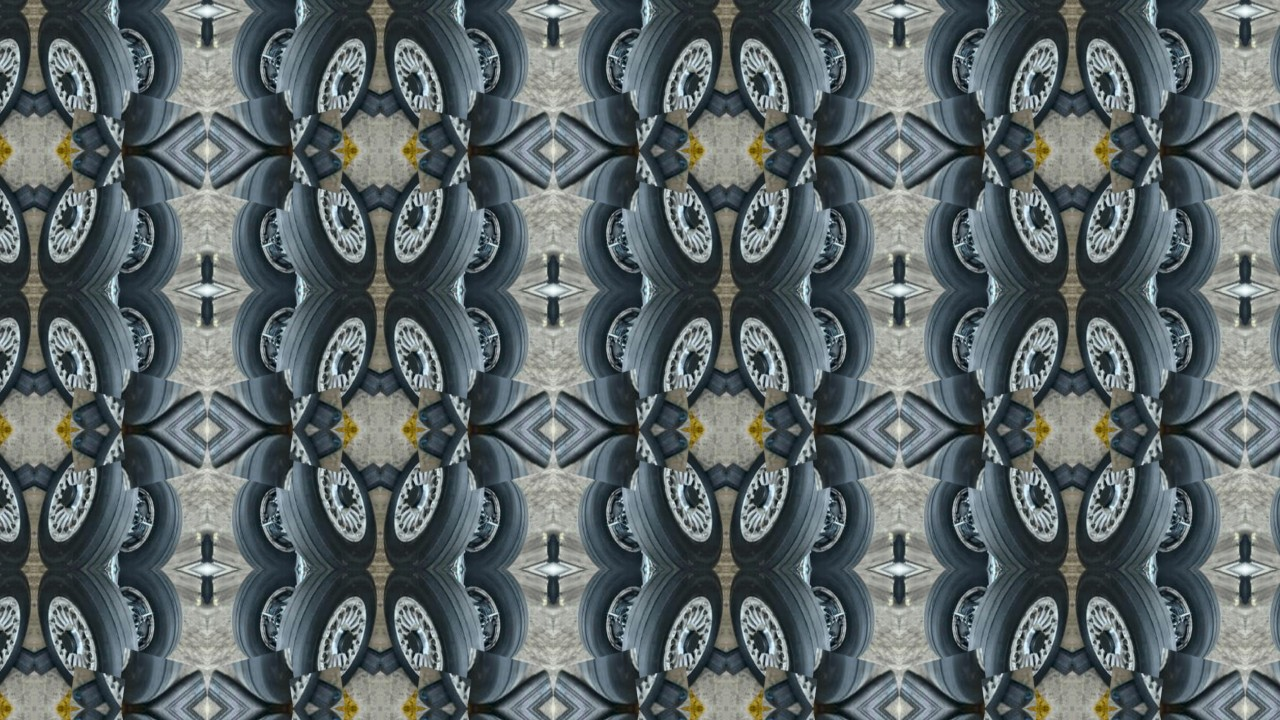chock: (108, 83, 206, 150), (206, 83, 304, 150), (455, 83, 553, 150), (553, 83, 651, 150), (802, 83, 900, 150), (900, 83, 998, 150), (1149, 83, 1247, 150), (108, 150, 206, 217), (206, 150, 304, 217), (455, 150, 553, 217), (553, 150, 651, 217), (802, 150, 900, 217), (900, 150, 998, 217), (1149, 150, 1247, 217), (108, 363, 206, 430), (206, 363, 304, 430), (455, 363, 553, 430), (553, 363, 651, 430), (802, 363, 900, 430), (900, 363, 998, 430), (1149, 363, 1247, 430), (108, 430, 206, 497), (206, 430, 304, 497), (455, 430, 553, 497), (553, 430, 651, 497), (802, 430, 900, 497), (900, 430, 998, 497), (1149, 430, 1247, 497), (108, 643, 206, 710), (206, 643, 304, 710), (455, 643, 553, 710), (553, 643, 651, 710), (802, 643, 900, 710), (900, 643, 998, 710), (1149, 643, 1247, 710), (81, 102, 153, 150), (259, 102, 331, 150), (428, 102, 500, 150), (606, 102, 678, 150), (775, 102, 847, 150), (953, 102, 1025, 150), (1122, 102, 1194, 150), (81, 150, 153, 198), (259, 150, 331, 198), (428, 150, 500, 198), (606, 150, 678, 198), (775, 150, 847, 198), (953, 150, 1025, 198), (1122, 150, 1194, 198), (81, 382, 153, 430), (259, 382, 331, 430), (428, 382, 500, 430), (606, 382, 678, 430), (775, 382, 847, 430), (953, 382, 1025, 430), (1122, 382, 1194, 430), (81, 430, 153, 478), (259, 430, 331, 478), (428, 430, 500, 478), (606, 430, 678, 478), (775, 430, 847, 478), (953, 430, 1025, 478), (1122, 430, 1194, 478), (81, 662, 153, 710), (259, 662, 331, 710), (428, 662, 500, 710), (606, 662, 678, 710), (775, 662, 847, 710), (953, 662, 1025, 710), (1122, 662, 1194, 710), (68, 103, 124, 150), (288, 103, 344, 150), (415, 103, 471, 150), (635, 103, 691, 150), (762, 103, 818, 150), (982, 103, 1038, 150), (1109, 103, 1165, 150), (68, 150, 124, 197), (288, 150, 344, 197), (415, 150, 471, 197), (635, 150, 691, 197), (762, 150, 818, 197), (982, 150, 1038, 197), (1109, 150, 1165, 197), (68, 383, 124, 430), (288, 383, 344, 430), (415, 383, 471, 430), (635, 383, 691, 430), (762, 383, 818, 430), (982, 383, 1038, 430), (1109, 383, 1165, 430), (68, 430, 124, 477), (288, 430, 344, 477), (415, 430, 471, 477), (635, 430, 691, 477), (762, 430, 818, 477), (982, 430, 1038, 477), (1109, 430, 1165, 477), (68, 663, 124, 710), (288, 663, 344, 710), (415, 663, 471, 710), (635, 663, 691, 710), (762, 663, 818, 710), (982, 663, 1038, 710), (1109, 663, 1165, 710), (1247, 83, 1280, 150), (1247, 150, 1280, 217), (1247, 363, 1280, 430), (1247, 430, 1280, 497), (1247, 643, 1280, 710), (379, 74, 418, 126), (726, 74, 765, 126), (1035, 74, 1074, 126), (379, 174, 418, 226), (726, 174, 765, 226), (1035, 174, 1074, 226), (379, 354, 418, 406), (726, 354, 765, 406), (1035, 354, 1074, 406), (379, 454, 418, 506), (726, 454, 765, 506), (1035, 454, 1074, 506), (379, 634, 418, 686), (726, 634, 765, 686), (1035, 634, 1074, 686), (33, 74, 71, 126), (341, 74, 379, 126), (688, 74, 726, 126), (1074, 74, 1112, 126), (33, 174, 71, 226), (341, 174, 379, 226), (688, 174, 726, 226), (1074, 174, 1112, 226), (33, 354, 71, 406), (341, 354, 379, 406), (688, 354, 726, 406), (1074, 354, 1112, 406), (33, 454, 71, 506), (341, 454, 379, 506), (688, 454, 726, 506), (1074, 454, 1112, 506), (33, 634, 71, 686), (341, 634, 379, 686), (688, 634, 726, 686), (1074, 634, 1112, 686), (0, 74, 32, 126), (0, 174, 32, 226), (0, 354, 32, 406), (0, 454, 32, 506), (0, 634, 32, 686), (108, 710, 206, 720), (206, 710, 304, 720), (455, 710, 553, 720), (553, 710, 651, 720), (802, 710, 900, 720), (900, 710, 998, 720), (1149, 710, 1247, 720), (81, 710, 153, 720), (259, 710, 331, 720), (428, 710, 500, 720), (606, 710, 678, 720), (775, 710, 847, 720), (953, 710, 1025, 720), (1122, 710, 1194, 720), (68, 710, 124, 720), (288, 710, 344, 720), (415, 710, 471, 720), (635, 710, 691, 720), (762, 710, 818, 720), (982, 710, 1038, 720), (1109, 710, 1165, 720)
wheel: (32, 10, 143, 150), (269, 10, 380, 150), (616, 10, 727, 150), (726, 10, 837, 150), (963, 10, 1074, 150), (1073, 10, 1184, 150), (32, 150, 143, 290), (269, 150, 380, 290), (616, 150, 727, 290), (726, 150, 837, 290), (963, 150, 1074, 290), (1073, 150, 1184, 290), (32, 290, 143, 430), (269, 290, 380, 430), (616, 290, 727, 430), (726, 290, 837, 430), (963, 290, 1074, 430), (1073, 290, 1184, 430), (32, 430, 143, 570), (269, 430, 380, 570), (616, 430, 727, 570), (726, 430, 837, 570), (963, 430, 1074, 570), (1073, 430, 1184, 570), (32, 570, 143, 710), (269, 570, 380, 710), (616, 570, 727, 710), (726, 570, 837, 710), (963, 570, 1074, 710), (1073, 570, 1184, 710), (380, 10, 490, 150), (380, 150, 490, 290), (380, 290, 490, 430), (380, 430, 490, 570), (380, 570, 490, 710), (102, 10, 189, 121), (223, 10, 310, 121), (449, 10, 536, 121), (570, 10, 657, 121), (796, 10, 883, 121), (917, 10, 1004, 121), (1143, 10, 1230, 121), (102, 179, 189, 290), (223, 179, 310, 290), (449, 179, 536, 290), (570, 179, 657, 290), (796, 179, 883, 290), (917, 179, 1004, 290), (1143, 179, 1230, 290), (102, 290, 189, 401), (223, 290, 310, 401), (449, 290, 536, 401), (570, 290, 657, 401), (796, 290, 883, 401), (917, 290, 1004, 401), (1143, 290, 1230, 401), (102, 459, 189, 570), (223, 459, 310, 570), (449, 459, 536, 570), (570, 459, 657, 570), (796, 459, 883, 570), (917, 459, 1004, 570), (1143, 459, 1230, 570), (102, 570, 189, 681), (223, 570, 310, 681), (449, 570, 536, 681), (570, 570, 657, 681), (796, 570, 883, 681), (917, 570, 1004, 681), (1143, 570, 1230, 681), (0, 10, 32, 150), (0, 150, 32, 290), (0, 290, 32, 430), (0, 430, 32, 570), (0, 570, 32, 710), (1264, 10, 1280, 121), (1264, 179, 1280, 290), (1264, 290, 1280, 401), (1264, 459, 1280, 570), (1264, 570, 1280, 681)
